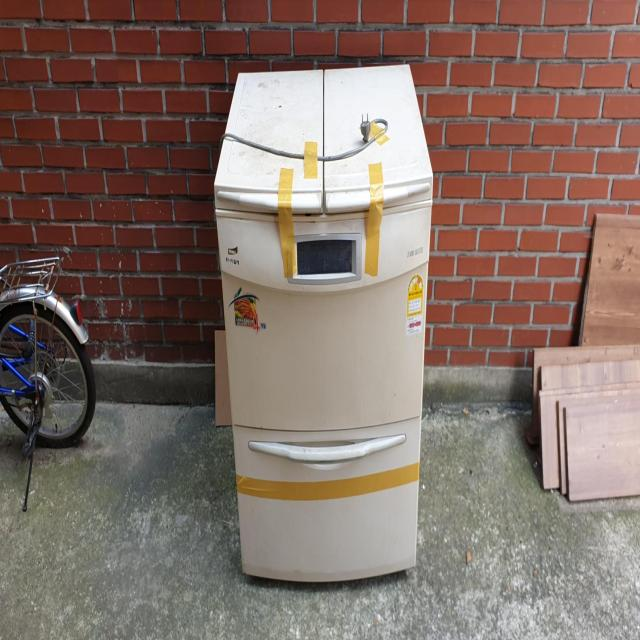refrigerator: (212, 62, 435, 585)
